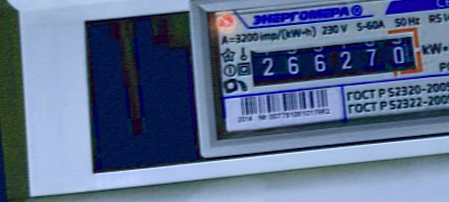0: (391, 42, 405, 64)
2: (259, 54, 275, 76), (338, 47, 352, 69)
6: (285, 53, 300, 74), (311, 51, 326, 71)
7: (363, 45, 378, 67)
screen: (239, 21, 430, 96)
